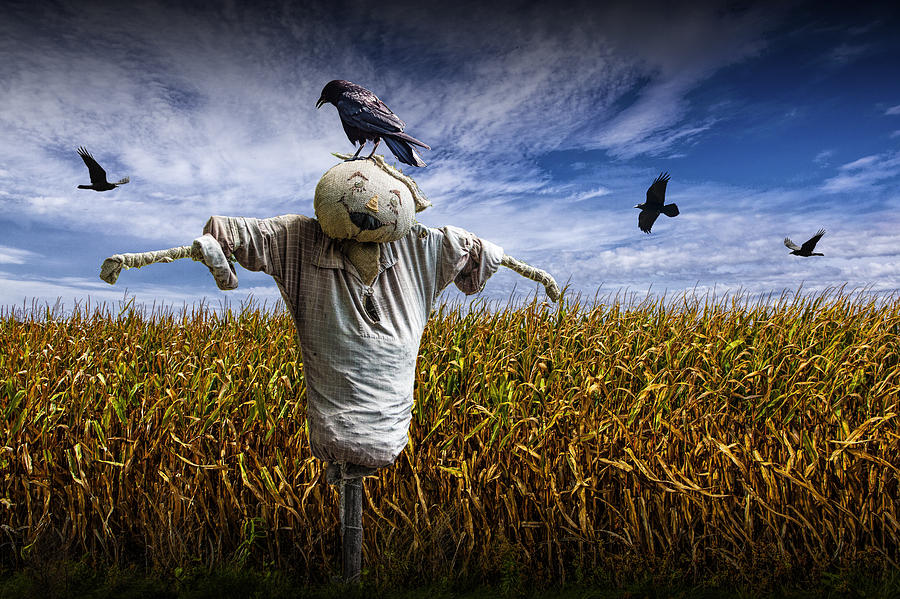person-like: (96, 152, 572, 493)
